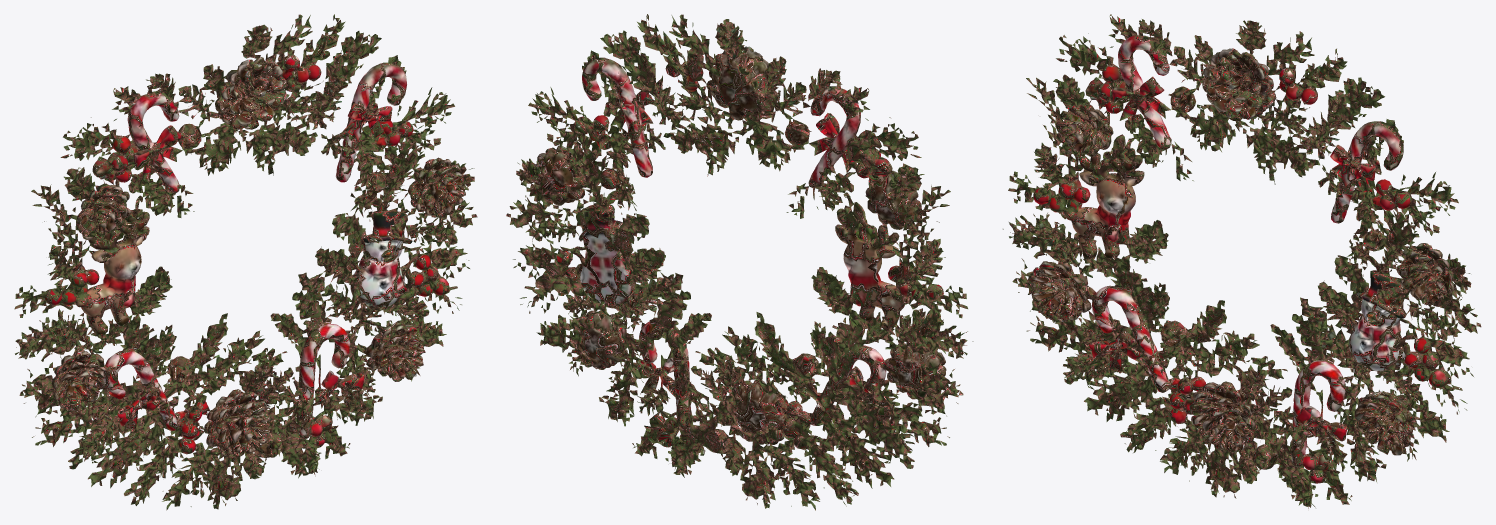
File: xm_wreath.glb
3 views of the same model, side by side, from view 1: azimuth 30°, elevation 25°; view 2: azimuth 150°, elevation 25°; view 3: azimuth 330°, elevation 25° (orthographic). The views are drawn at different scales.
Bounding box in the file's own units: 0.0507 × 0.0497 × 0.00346.
1 material, 1 textured.
